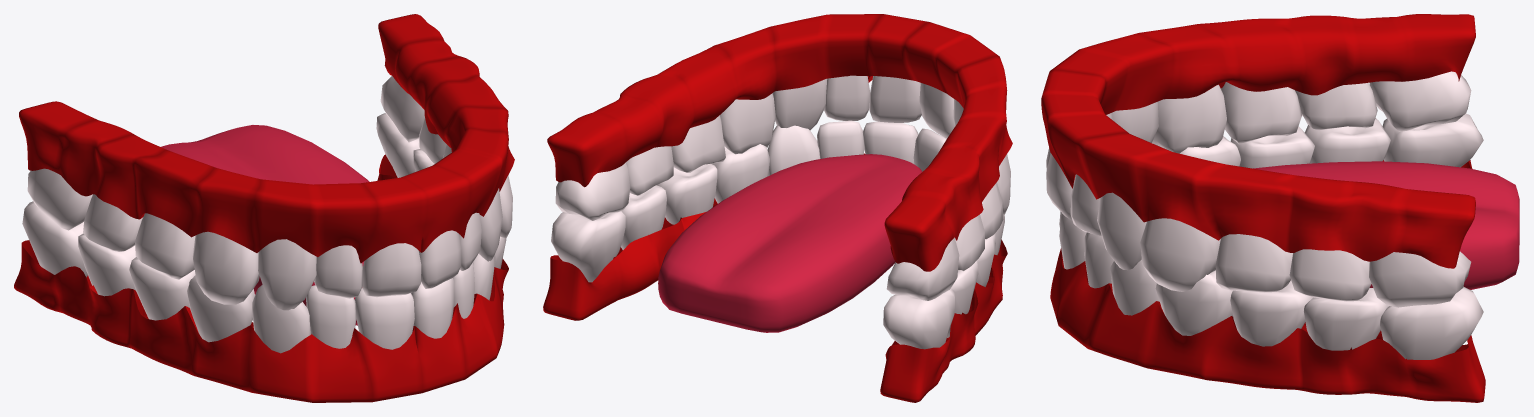
The model's file is teeth_and_tongue-cl.fbx.
3 renders of one model, left to right at view 1: azimuth 30°, elevation 25°; view 2: azimuth 150°, elevation 25°; view 3: azimuth 270°, elevation 25°, orthographic. The views are drawn at different scales.
Visible parts, largest first — view 1: UpperJaw, LowerJaw, Tongue; view 2: UpperJaw, LowerJaw, Tongue; view 3: UpperJaw, LowerJaw, Tongue.
Part boxes in pixels (left/top/right/bottom): UpperJaw: left=19, top=14, right=514, bottom=310; LowerJaw: left=14, top=113, right=508, bottom=402; Tongue: left=161, top=125, right=369, bottom=325; UpperJaw: left=547, top=14, right=1012, bottom=300; LowerJaw: left=543, top=120, right=1007, bottom=402; Tongue: left=658, top=154, right=922, bottom=332; UpperJaw: left=1041, top=14, right=1475, bottom=307; LowerJaw: left=1050, top=113, right=1485, bottom=402; Tongue: left=1253, top=161, right=1519, bottom=289.
Bounding box in the file's own units: 136 × 66.42 × 135.
3 materials, 1 textured.
